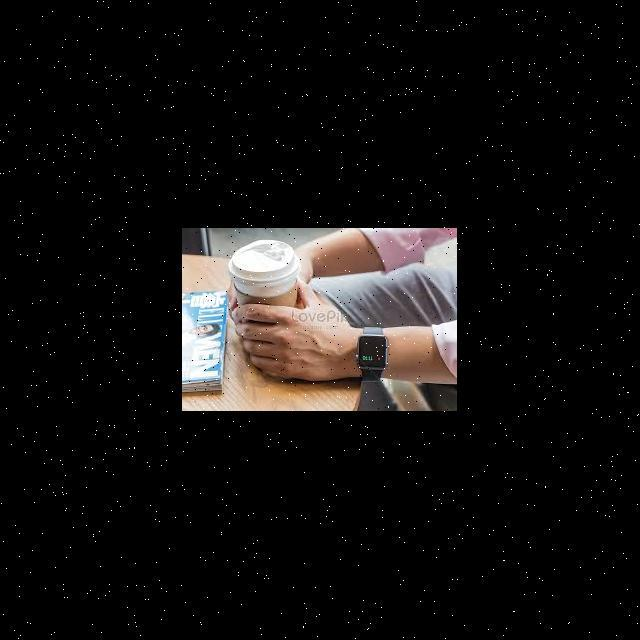watch: (350, 315, 392, 392)
